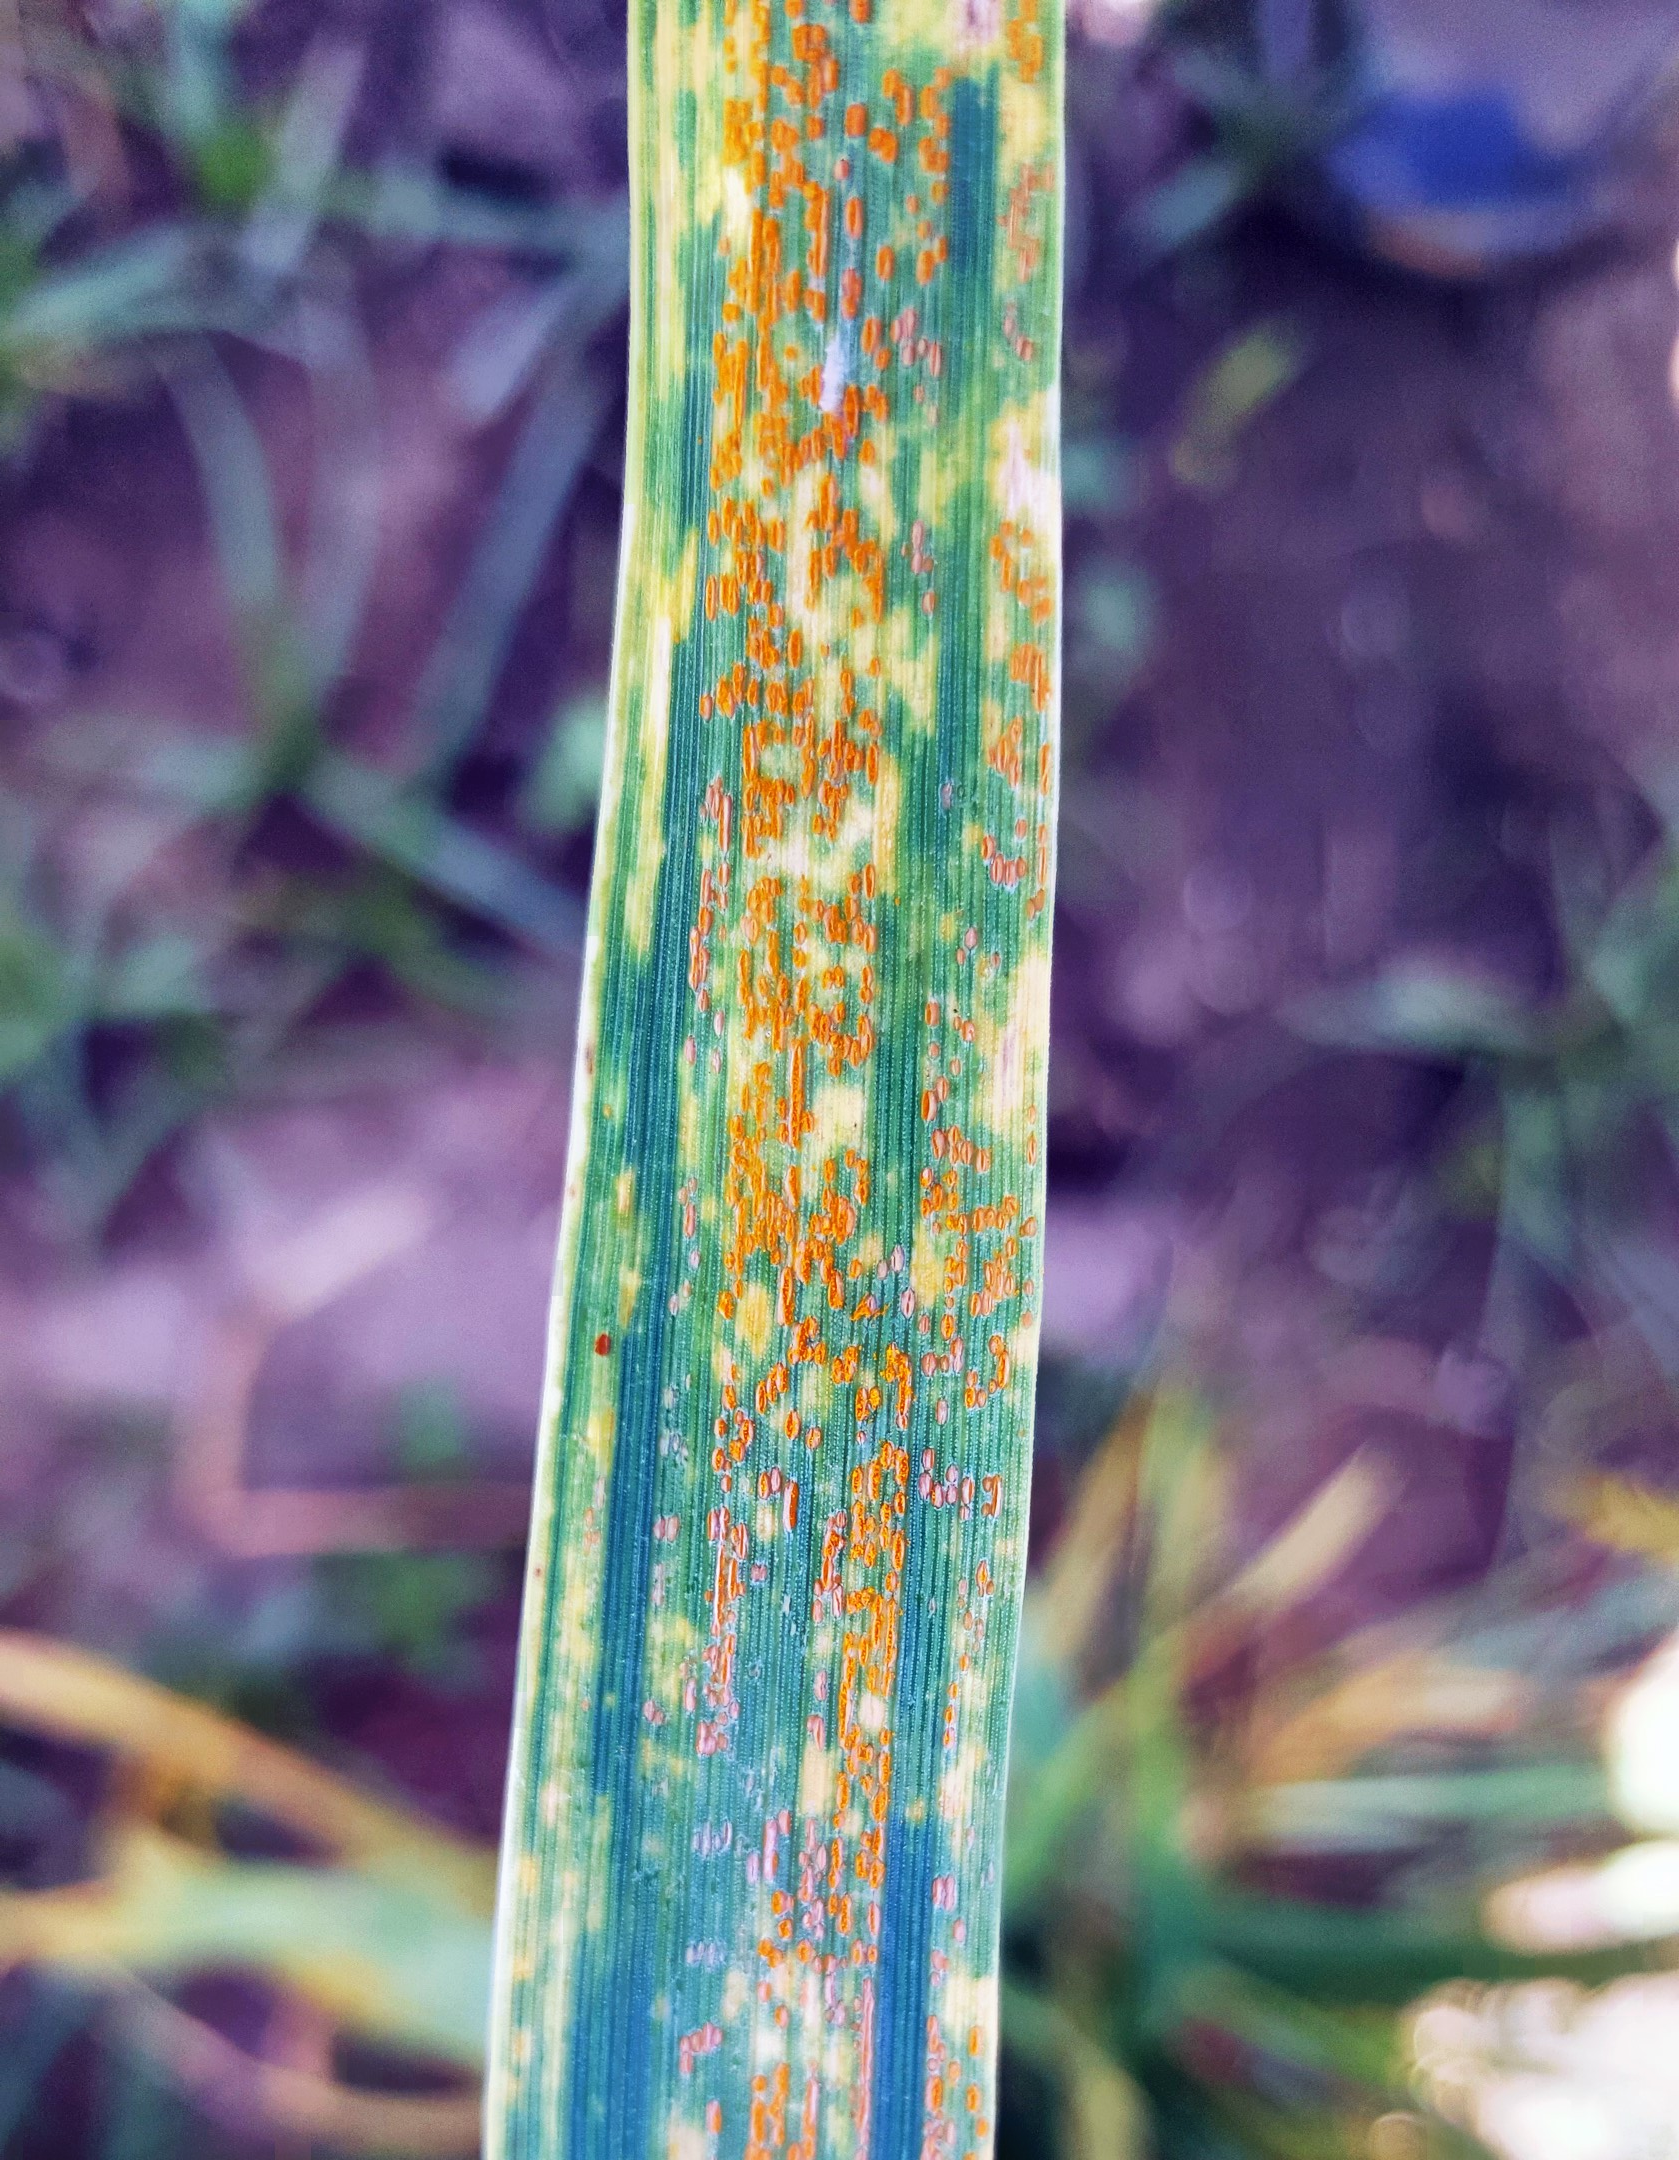Leaf Rust: (549, 63, 1043, 2021)
